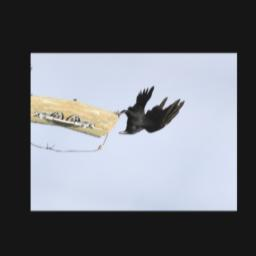Crow: (104, 80, 191, 144)
